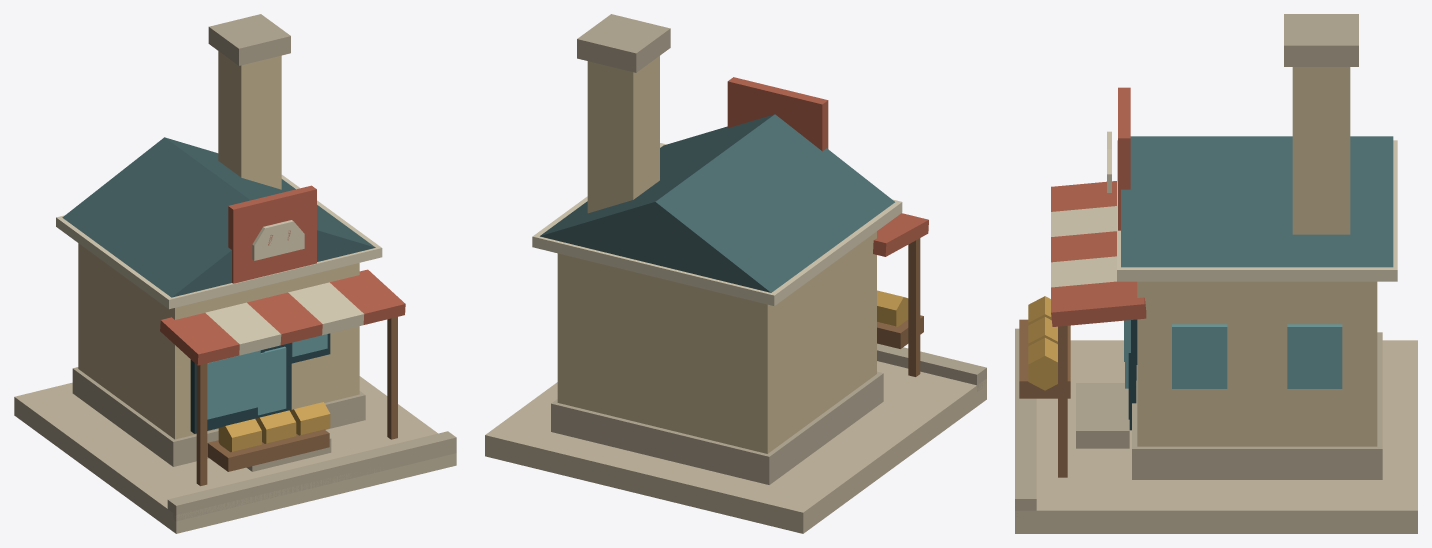
The model's file is bakery-sunrise-complete.glb.
3 renders of one model, left to right at view 1: azimuth 30°, elevation 25°; view 2: azimuth 150°, elevation 25°; view 3: azimuth 270°, elevation 25°, orthographic. The views are drawn at different scales.
Parts seen in each view (by area): view 1: bakery; view 2: bakery; view 3: bakery.
Boxes of the visible parts, x1,y1,x2,y2 form: bakery: (14, 14, 456, 533); bakery: (485, 14, 986, 533); bakery: (1015, 14, 1417, 533).
Bounding box in the file's own units: 1.88 × 2.34 × 1.88.
